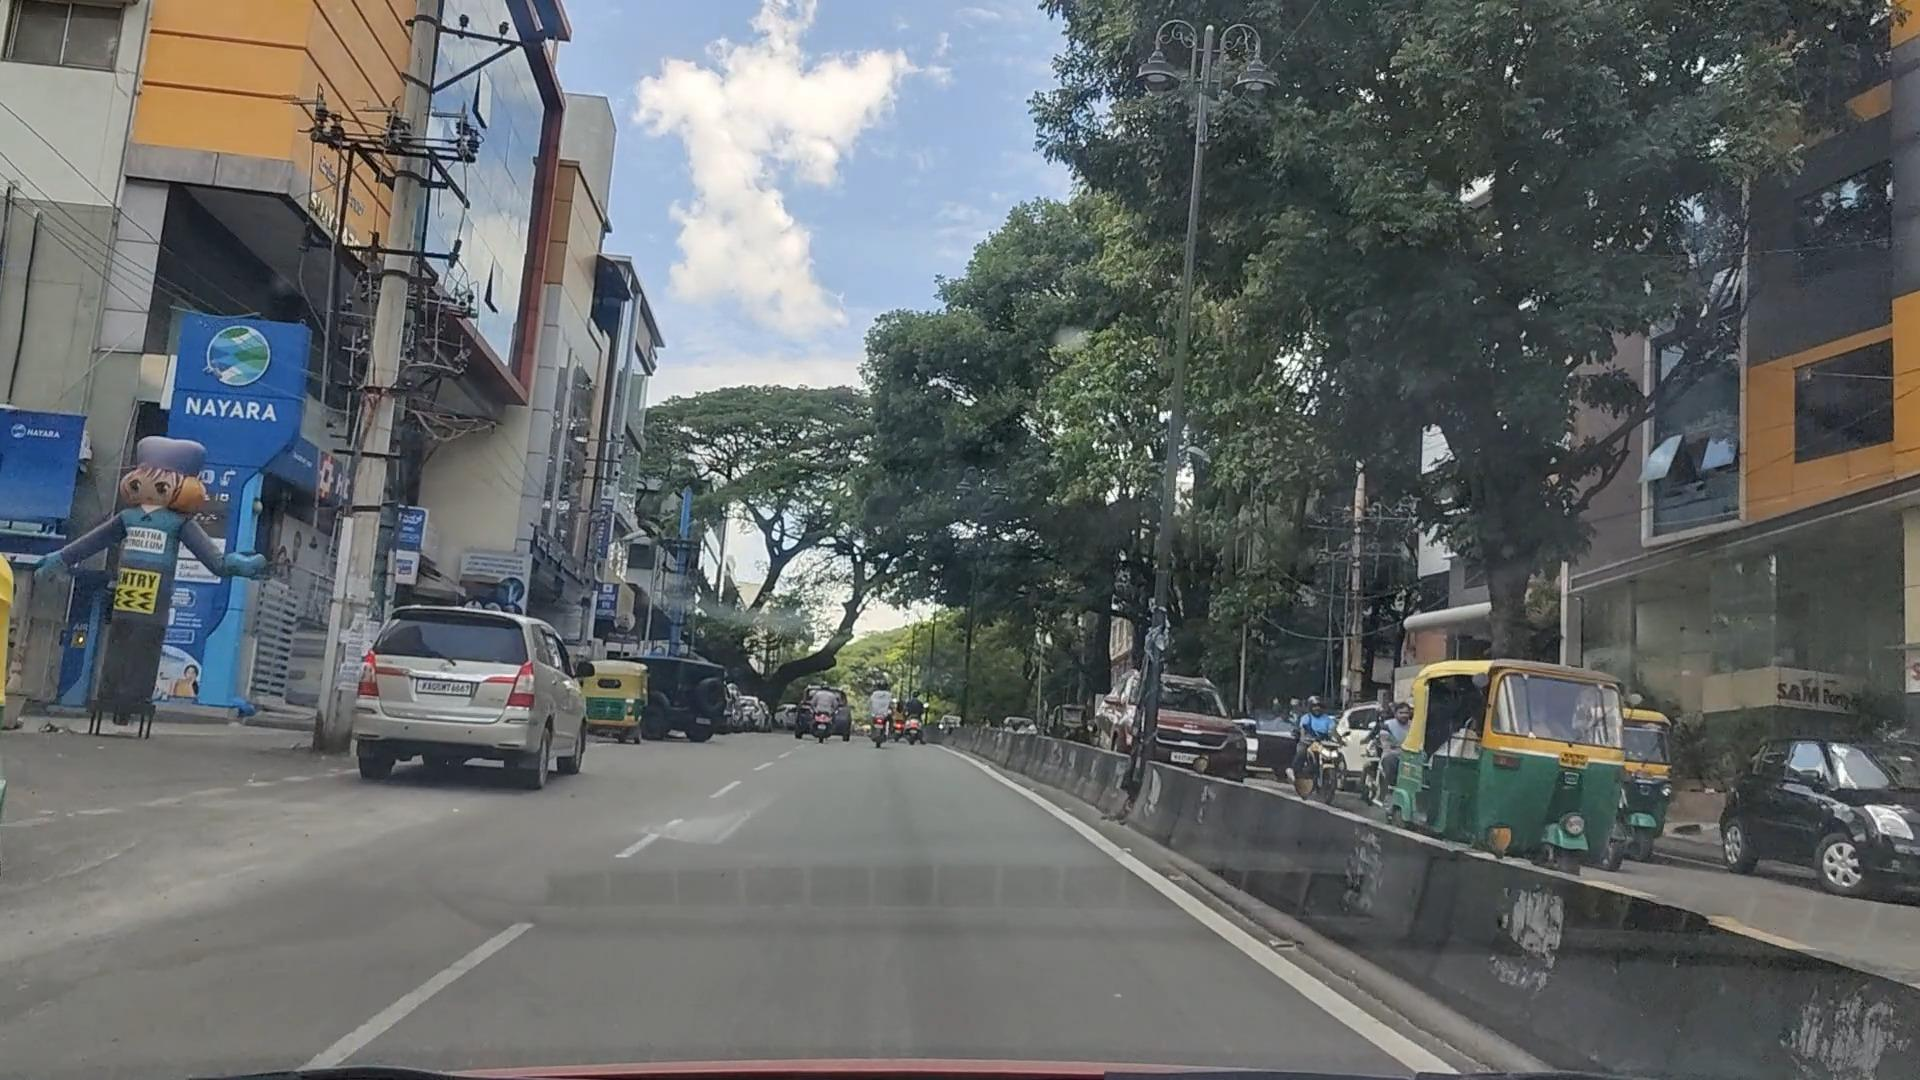LMV: (356, 611, 604, 798)
RoadDamages: (22, 808, 347, 960)
